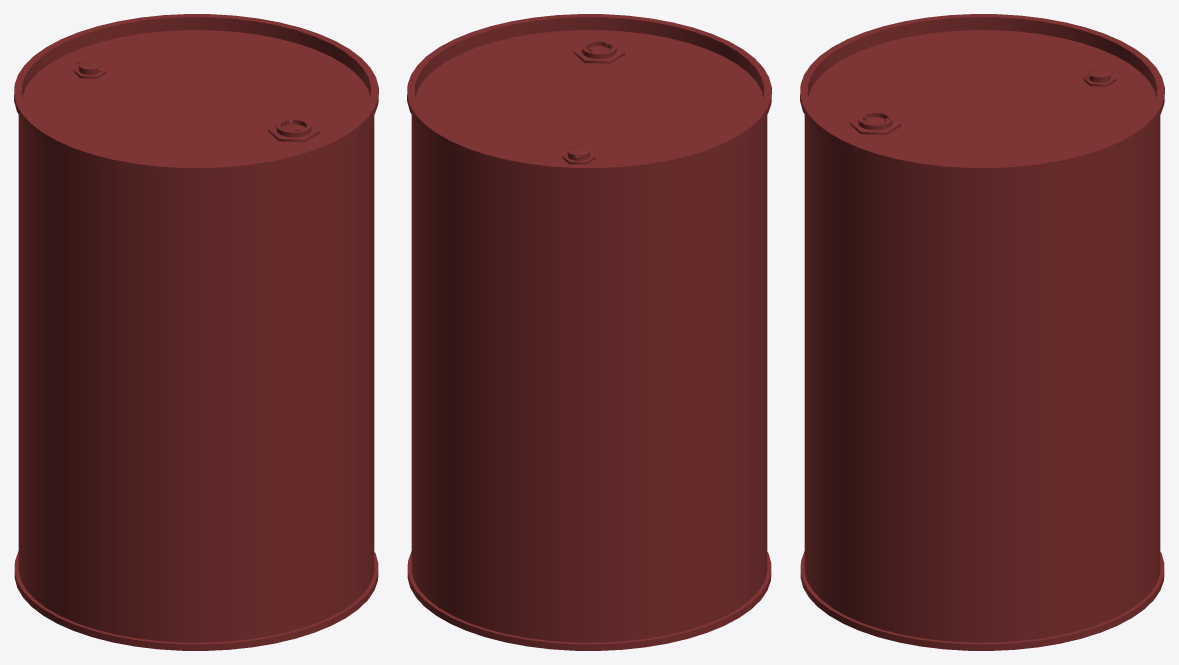
The model's file is SM_Barrel01.fbx.
3 renders of one model, left to right at view 1: azimuth 30°, elevation 25°; view 2: azimuth 150°, elevation 25°; view 3: azimuth 270°, elevation 25°, orthographic.
Parts seen in each view (by area): view 1: Barrel01; view 2: Barrel01; view 3: Barrel01.
Part boxes in pixels (x1=…): Barrel01: x1=14, y1=14, x2=378, y2=650; Barrel01: x1=407, y1=14, x2=771, y2=650; Barrel01: x1=800, y1=14, x2=1164, y2=650.
Bounding box in the file's own units: 60.38 × 88.24 × 60.38.
